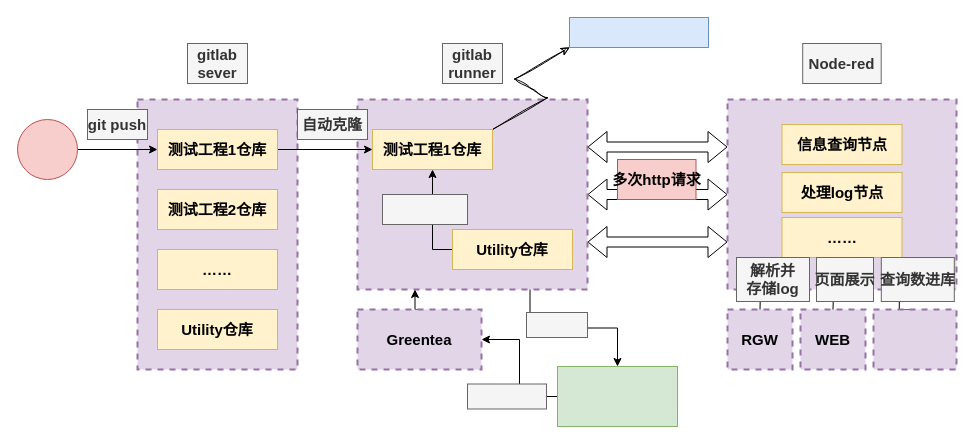
The diagram is 975 pixels wide and 444 high, and some of its shapes have lost their labels. The centre of each missing label's shape, as x and y in pixels:
".gitlab_cicd.yml" belongs at (x=638, y=32).
"Database" belongs at (x=914, y=339).
"submodule" belongs at (x=425, y=209).
"开发板阵列" belongs at (x=617, y=396).
"开始" belongs at (x=47, y=149).
"收集log" belongs at (x=506, y=396).
"烧录" belongs at (x=557, y=325).
